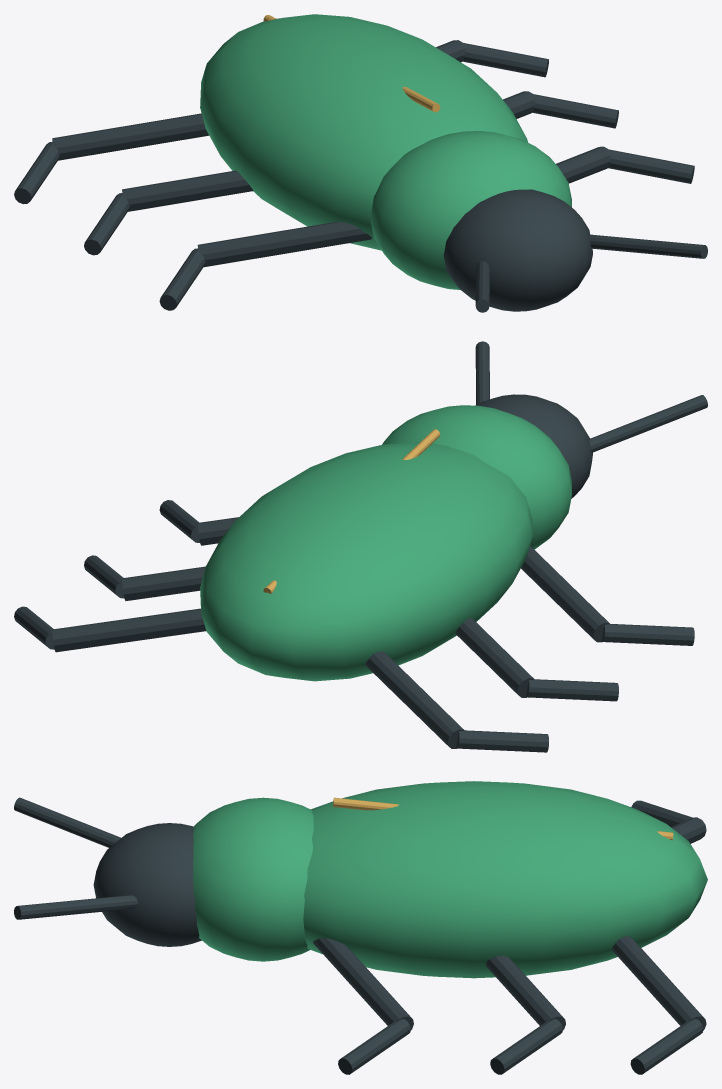
The model's file is DummyBeetle.fbx.
3 renders of one model, top to bottom at view 1: azimuth 30°, elevation 25°; view 2: azimuth 150°, elevation 25°; view 3: azimuth 270°, elevation 25°, orthographic.
Visible parts, largest first — view 1: Beetle body, Beetle thorax, Beetle head, Leg.002, Leg.004, Leg.003, Antenna.001, Foot.005, Foot.003, Foot.004, Foot, Foot.001 (+4 smaller); view 2: Beetle body, Beetle thorax, Beetle head, Leg.007, Leg.004, Leg.002, Leg.003, Leg.006, Antenna, Foot.001, Foot, Foot.002 (+5 smaller); view 3: Beetle body, Beetle thorax, Beetle head, Leg.005, Leg.007, Leg.006, Antenna.001, Antenna, Foot.003, Foot.004, Foot.005, Foot.002 (+2 smaller).
Part boxes in pixels (x1,y1,x2,y2): Beetle body: (200, 14, 527, 250); Beetle thorax: (370, 131, 571, 289); Beetle head: (443, 189, 592, 311); Leg.002: (197, 222, 371, 267); Leg.004: (52, 113, 208, 160); Leg.003: (122, 170, 253, 211); Antenna.001: (589, 234, 707, 258); Foot.005: (462, 43, 548, 77); Foot.003: (608, 149, 694, 183); Foot.004: (532, 94, 618, 128); Foot: (159, 248, 205, 310); Foot.001: (84, 193, 129, 255); Beetle body: (200, 442, 532, 681); Beetle thorax: (382, 405, 571, 549); Beetle head: (475, 394, 592, 498); Leg.007: (52, 608, 206, 652); Leg.004: (365, 651, 464, 748); Leg.002: (521, 546, 609, 642); Leg.003: (455, 618, 534, 697); Leg.006: (122, 566, 205, 601); Antenna: (589, 395, 707, 452); Foot.001: (526, 679, 618, 701); Foot: (602, 624, 694, 645); Foot.002: (456, 730, 548, 752); Beetle body: (303, 781, 707, 978); Beetle thorax: (193, 797, 313, 961); Beetle head: (93, 823, 201, 946); Leg.005: (313, 938, 413, 1030); Leg.007: (612, 936, 706, 1030); Leg.006: (485, 955, 565, 1029); Antenna.001: (14, 895, 137, 919); Antenna: (14, 797, 120, 847); Foot.003: (338, 1019, 410, 1074); Foot.004: (490, 1019, 562, 1074); Foot.005: (630, 1019, 703, 1074); Foot.002: (631, 800, 692, 826).
Size of the model in its own units: 0.5302 by 0.152 by 0.593.
